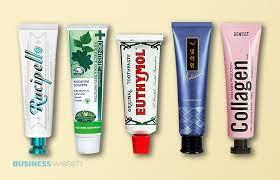toothpaste: (15, 20, 62, 158), (168, 18, 214, 154), (66, 20, 110, 158), (218, 19, 263, 153), (115, 32, 163, 153)
